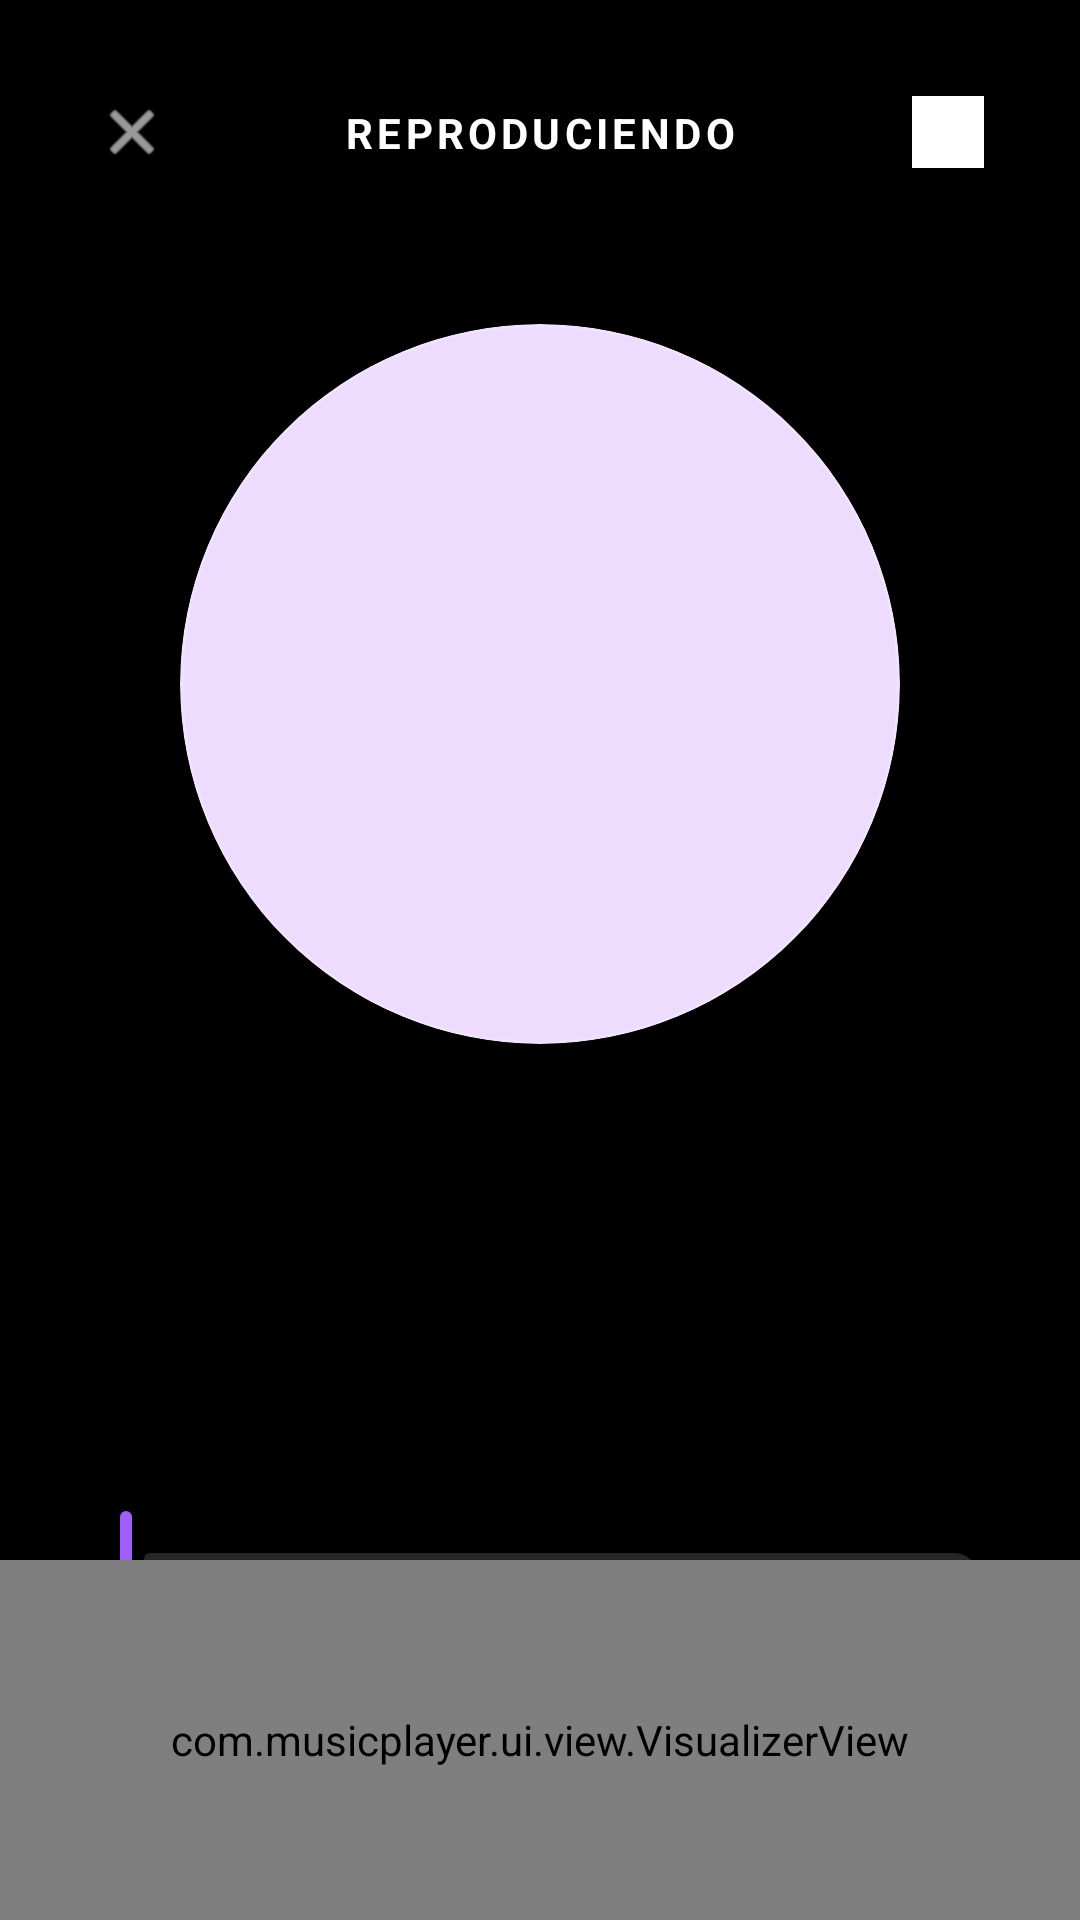

Screen size 1080 x 1920. Icon name, then its box in pixels as box=[x1, y1, x2, y2]:
close clear cancel: box=[109, 109, 155, 155]
